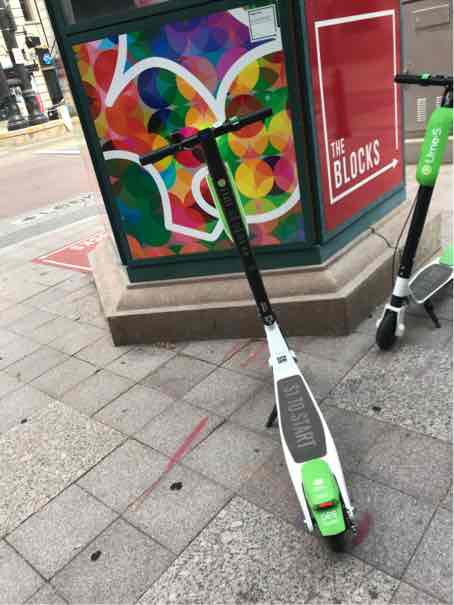scooter: (137, 104, 366, 553), (374, 68, 454, 354)
